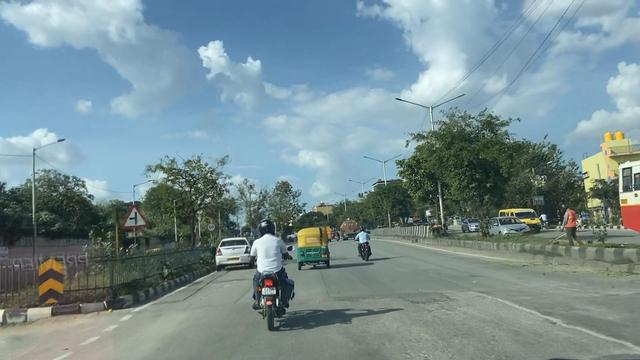RoadDamages: (467, 289, 640, 360)
